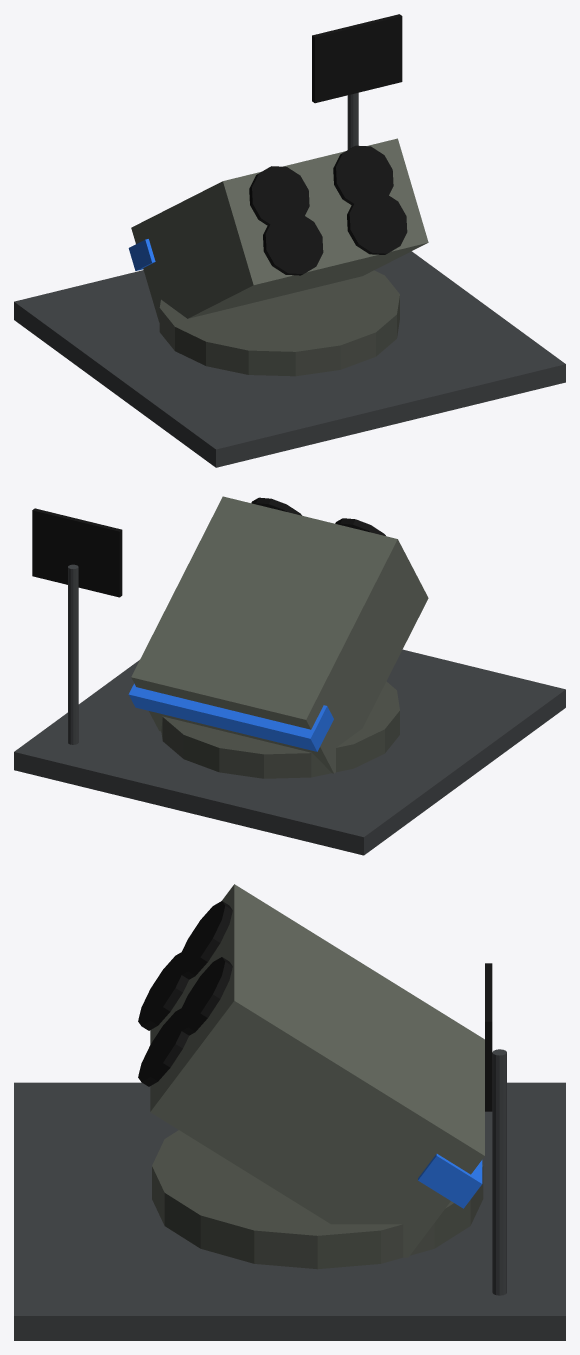
The model's file is eu_sam_site.glb.
The picture shows the model from 3 angles, top to bottom: view 1: azimuth 30°, elevation 25°; view 2: azimuth 150°, elevation 25°; view 3: azimuth 270°, elevation 25°; orthographic projection. The views are drawn at different scales.
Parts seen in each view (by area): view 1: base, barrel, turret, radar_panel, tube_3, tube_2, tube_0, tube_1, radar_mast, team_band; view 2: barrel, base, turret, radar_panel, team_band, radar_mast; view 3: base, barrel, turret, radar_mast, tube_3, tube_2, team_band, tube_0, tube_1, radar_panel.
Part boxes in pixels (box(x1,y1,x2,y2)): base: box(14, 251, 565, 467); barrel: box(131, 138, 428, 322); turret: box(159, 270, 399, 376); radar_panel: box(312, 14, 402, 103); tube_3: box(333, 145, 393, 207); tube_2: box(249, 166, 309, 227); tube_0: box(263, 212, 323, 275); tube_1: box(347, 192, 407, 254); radar_mast: box(347, 92, 358, 149); team_band: box(128, 239, 155, 270); barrel: box(131, 496, 428, 773); base: box(14, 649, 565, 855); turret: box(161, 681, 399, 778); radar_panel: box(32, 508, 122, 597); team_band: box(128, 683, 333, 751); radar_mast: box(68, 564, 78, 744); base: box(14, 1082, 565, 1340); barrel: box(150, 884, 484, 1257); turret: box(152, 1130, 483, 1269); radar_mast: box(492, 1049, 506, 1295); tube_3: box(175, 957, 232, 1035); tube_2: box(175, 901, 232, 979); team_band: box(418, 1154, 482, 1208); tube_0: box(138, 952, 188, 1030); tube_1: box(138, 1008, 188, 1086); radar_panel: box(485, 963, 492, 1111).
Size of the model in its own units: 6.15 by 3.9 by 6.
